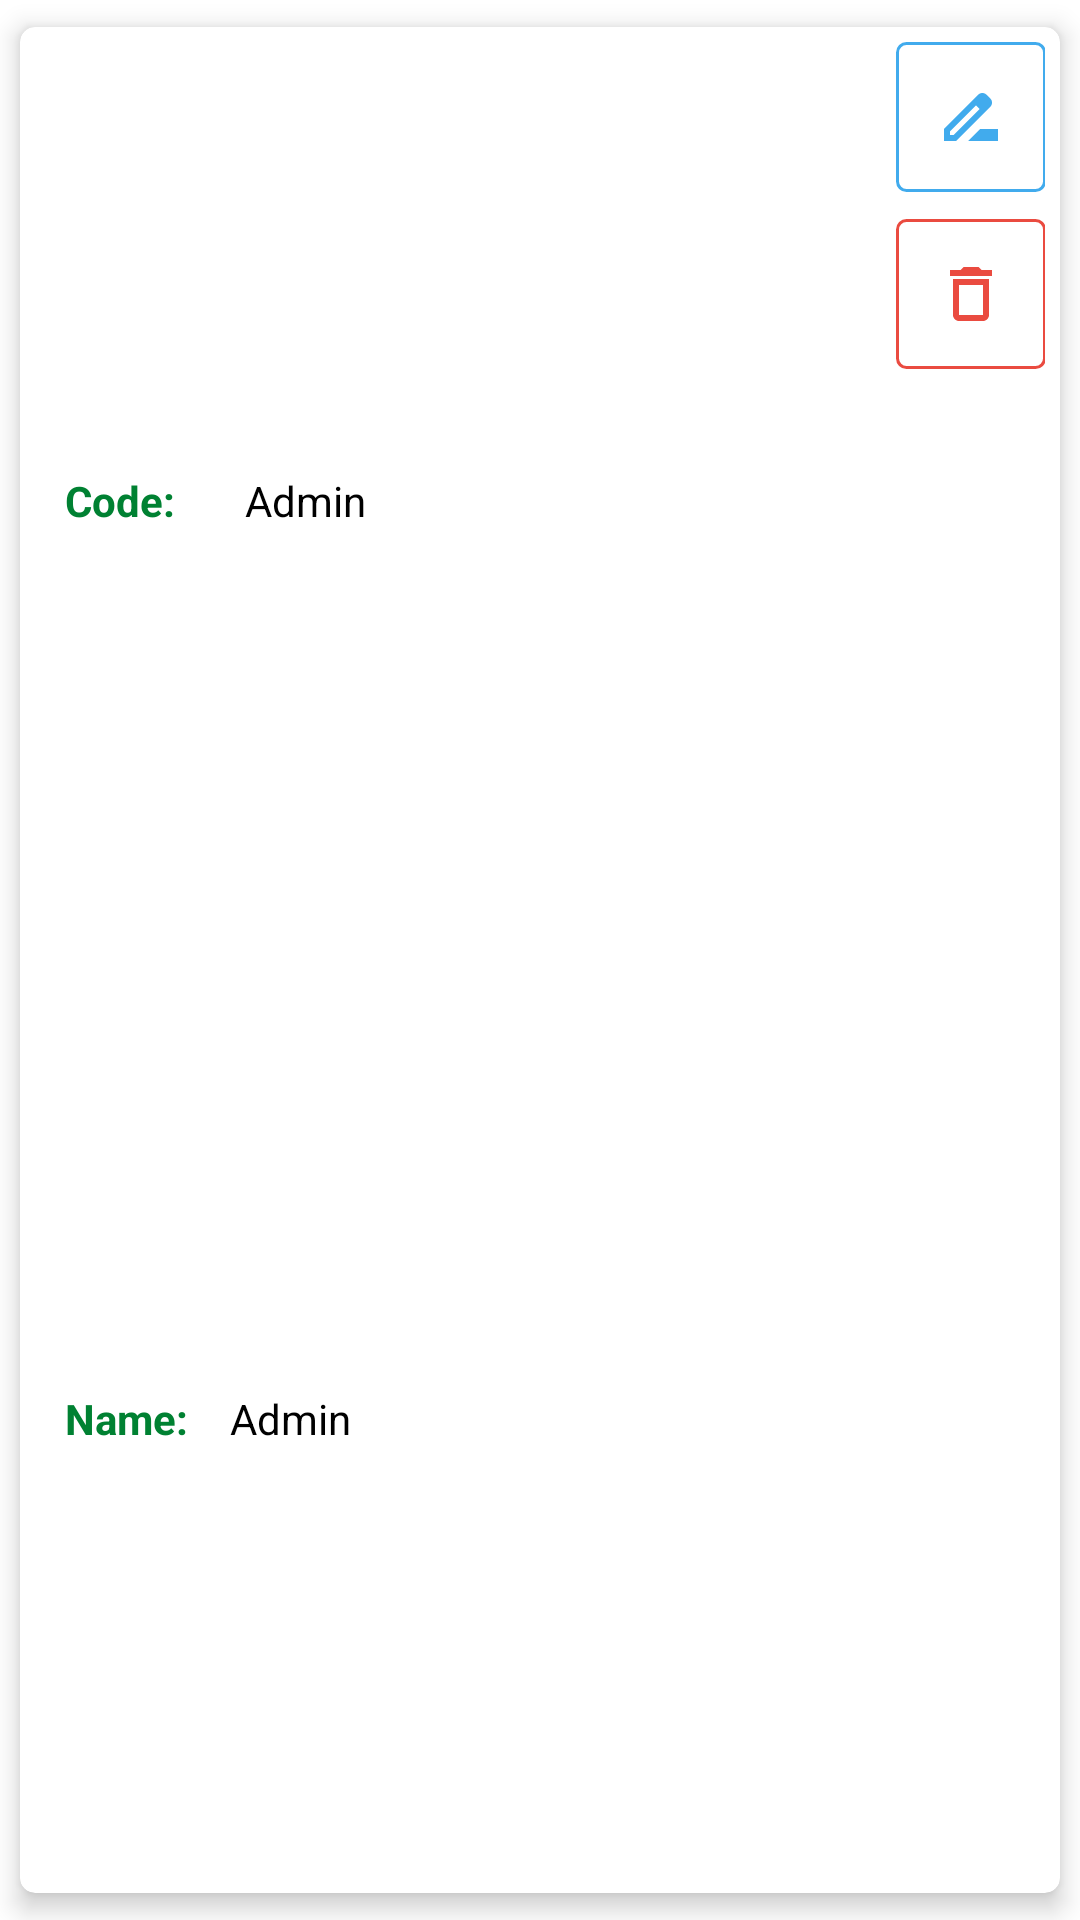

Where to tap for icons on this 1080 x 1920 app screen, as (x,y):
delete: (970,294)
edit: (970,117)
